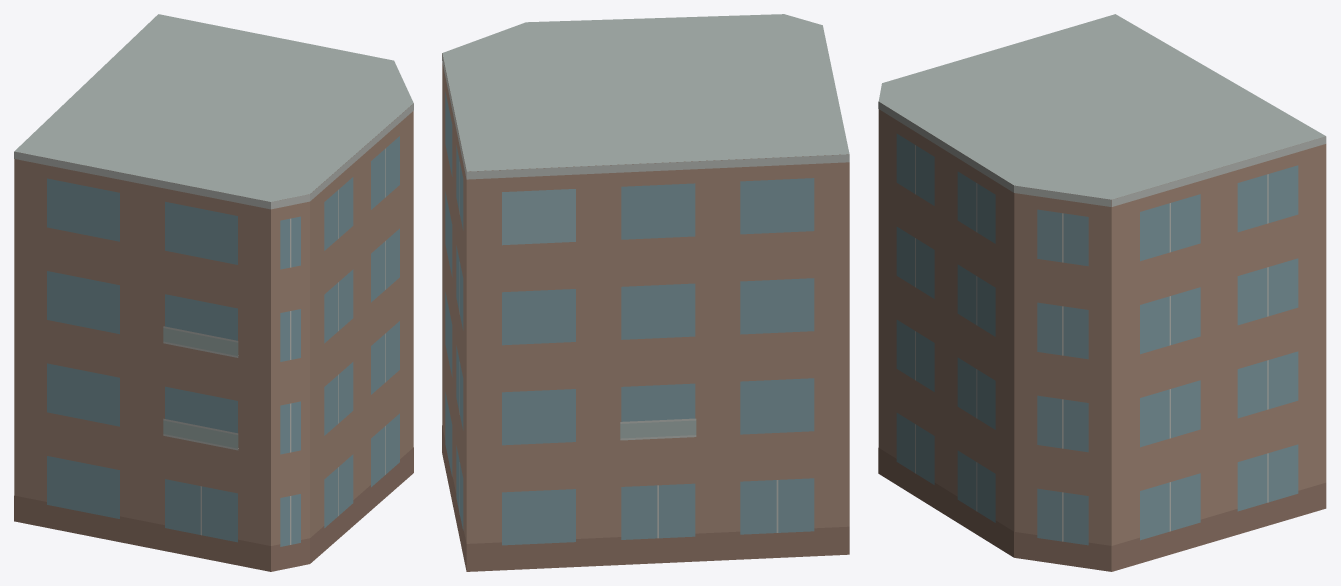
The model's file is survey-upis-32681665.glb.
The picture shows the model from 3 angles, left to right: view 1: azimuth 30°, elevation 25°; view 2: azimuth 150°, elevation 25°; view 3: azimuth 270°, elevation 25°; orthographic projection. The views are drawn at different scales.
Visible parts, largest first — view 1: survey-upis-32681665.tmp; view 2: survey-upis-32681665.tmp; view 3: survey-upis-32681665.tmp.
Boxes of the visible parts, x1,y1,x2,y2 form: survey-upis-32681665.tmp: [14, 14, 413, 571]; survey-upis-32681665.tmp: [442, 14, 849, 571]; survey-upis-32681665.tmp: [878, 14, 1326, 571].
Size of the model in its own units: 13.06 by 12.2 by 13.31.
